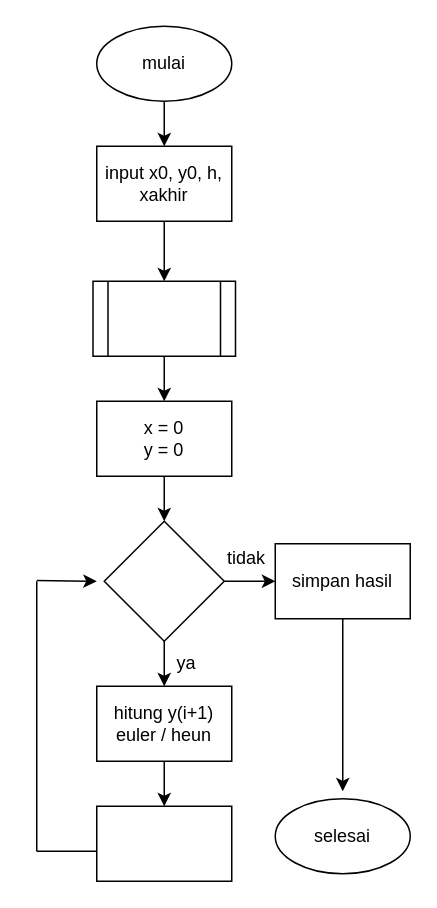
This 437x908 diagram has some shape labels left out. Each missing label, with the centre of its shape:
"f(x, y) = (2-xy) y" goes at point 164,318.
"x <= xakhir?" goes at point 163,580.
"x = x + h y = y(i+1)" goes at point 163,843.
